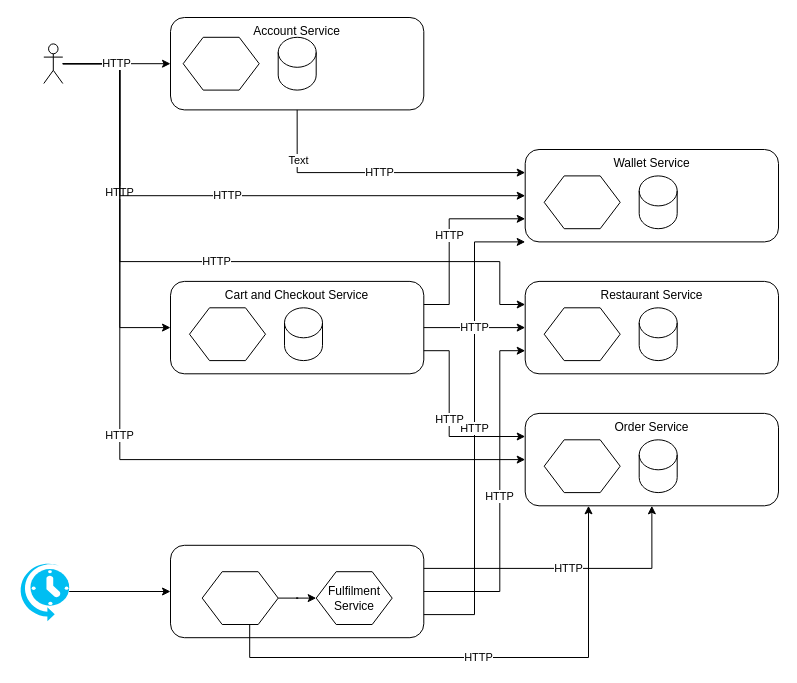
Image size: 797x683. Some labels were removed from this diagram. The shapes that lost their labels are listed below. From the top down, each one's centre as x and y in pixels, then its label:
At pixel 53 63: "Actor".
At pixel 43 591: "Scheduler".
At pixel 239 597: "Background Service".
